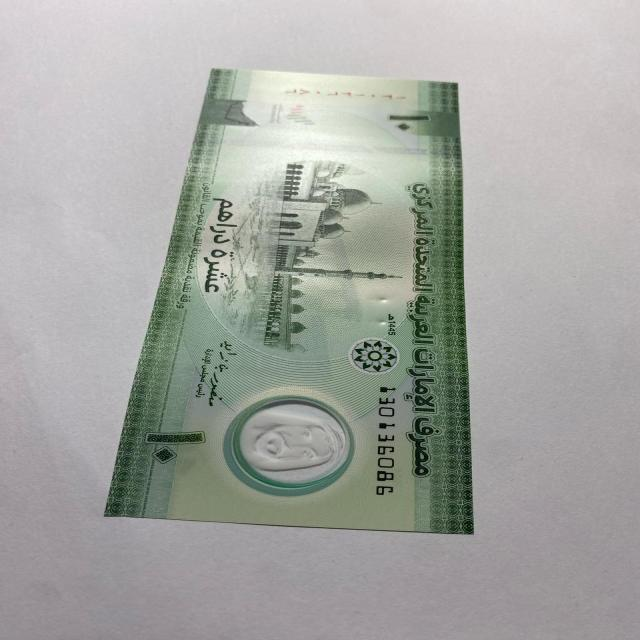10_AED: (101, 66, 493, 536)
